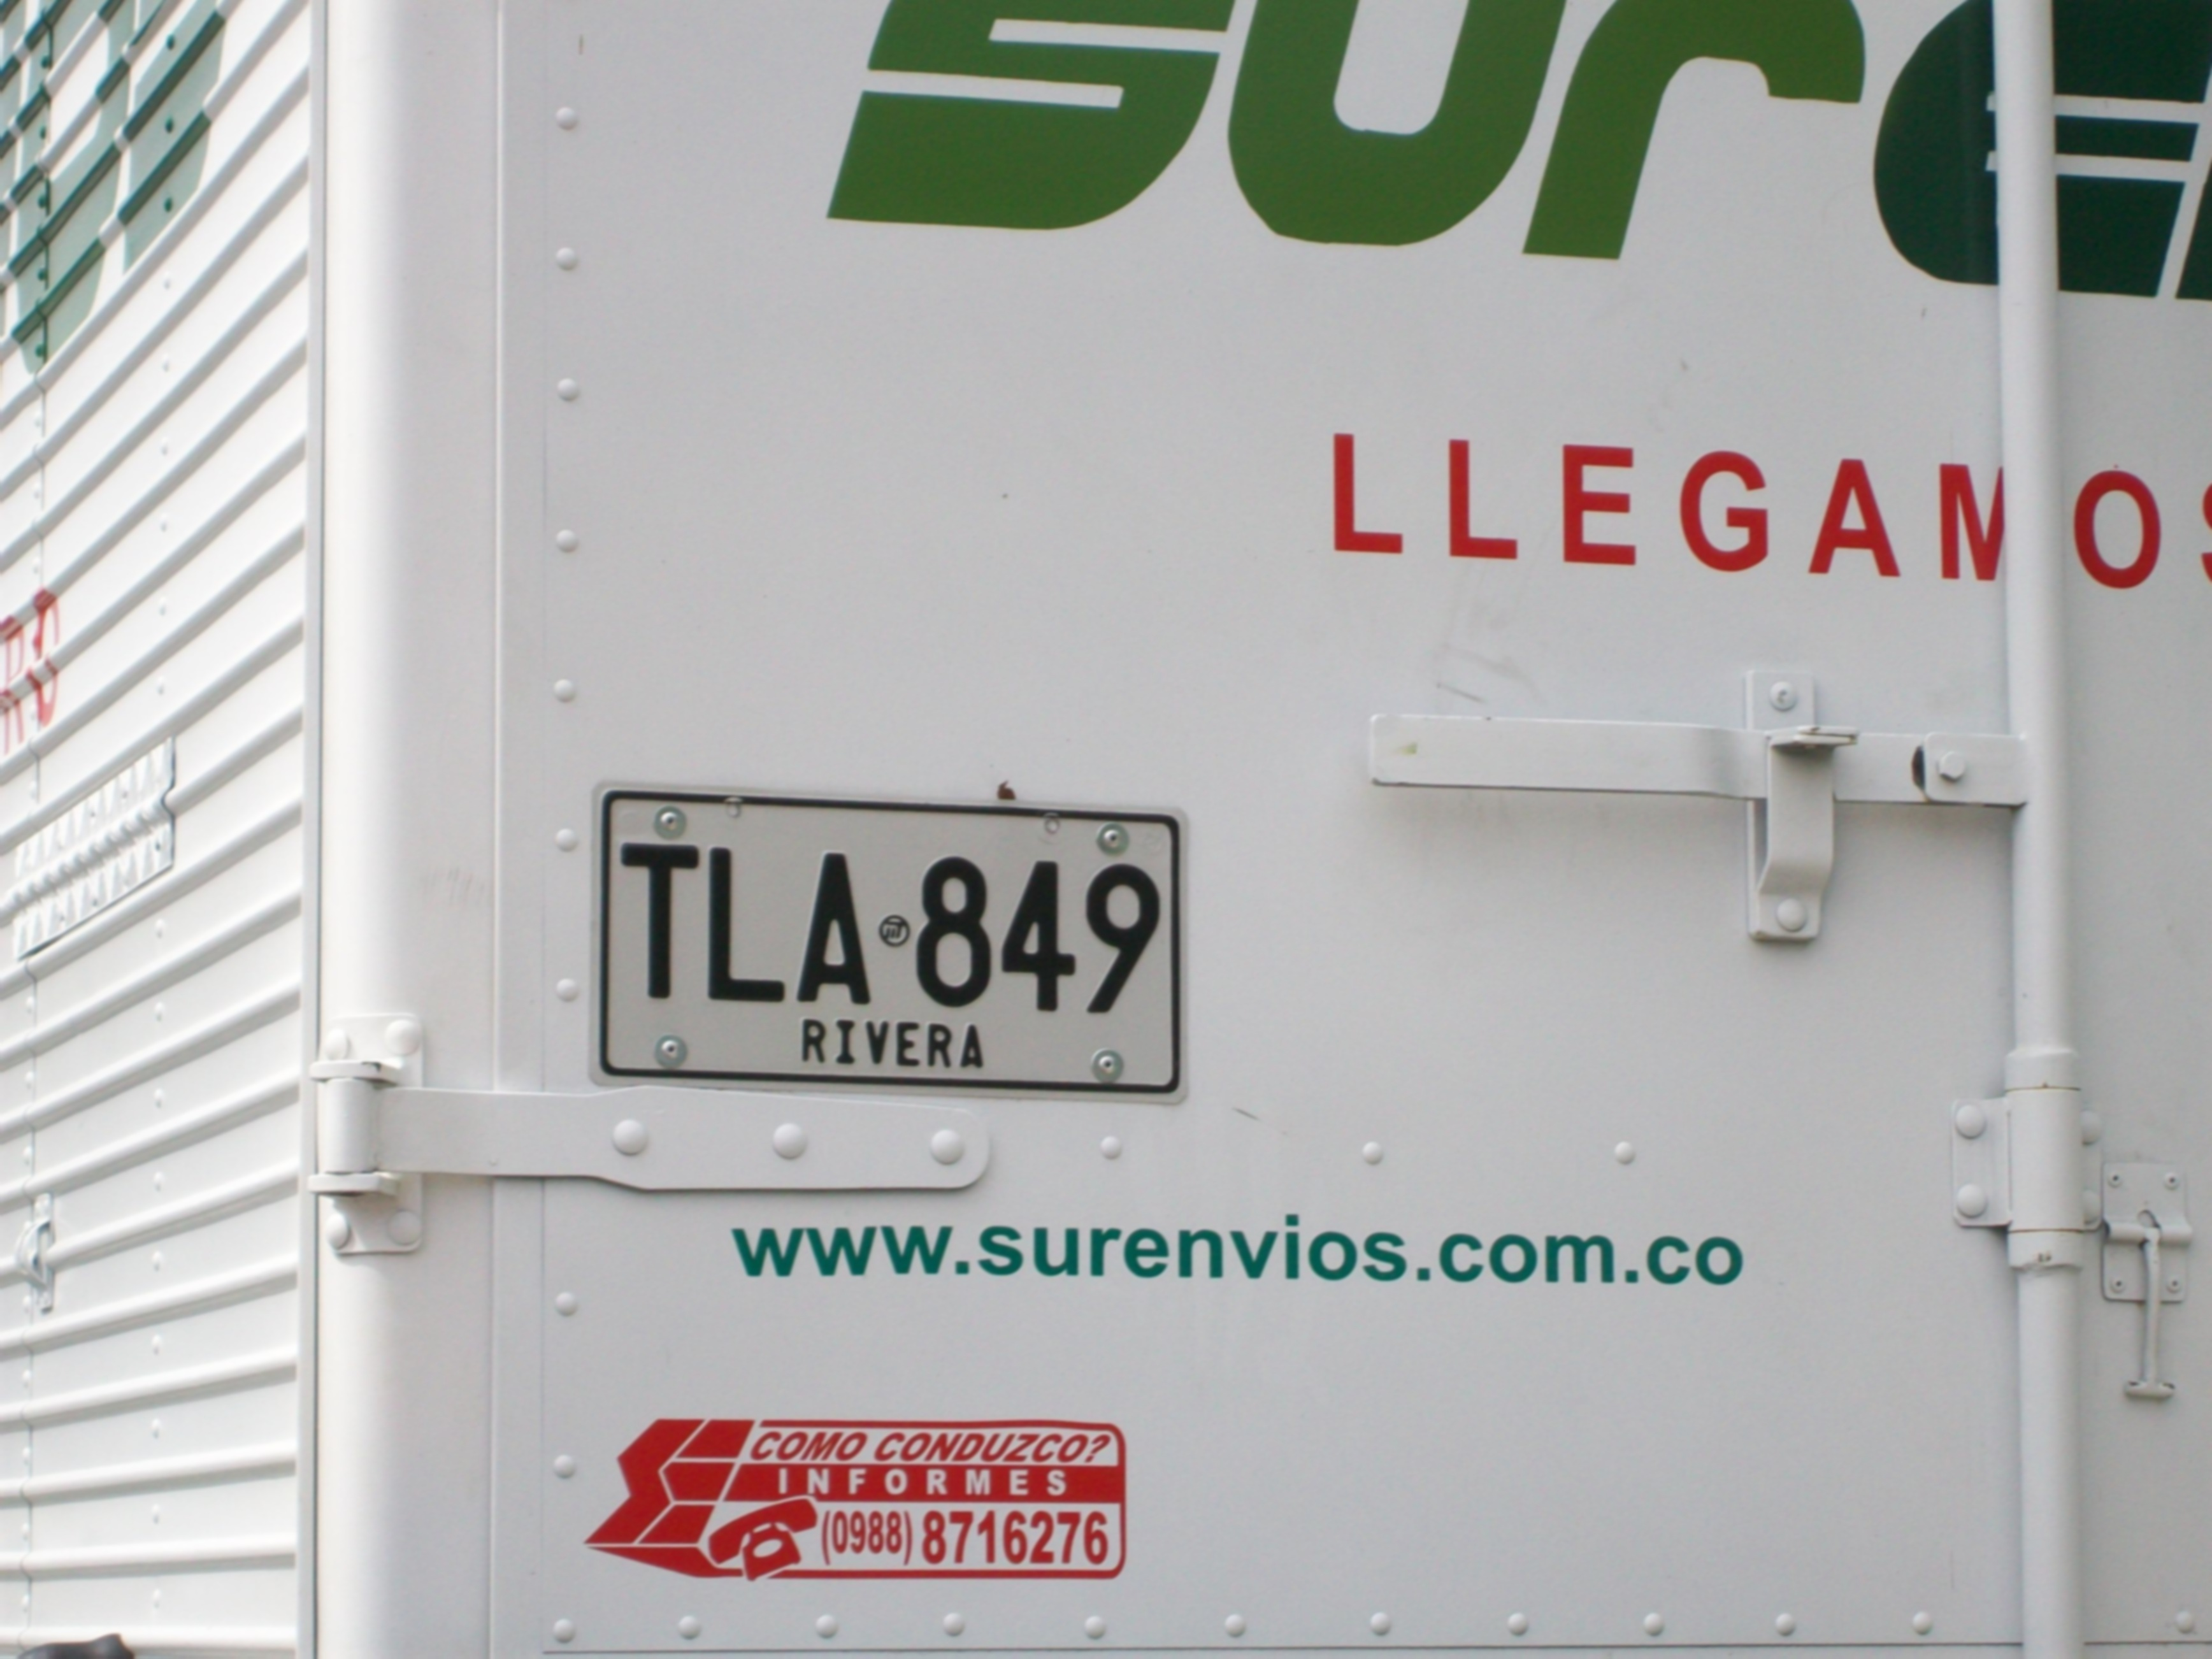placas: (584, 778, 1196, 1111)
